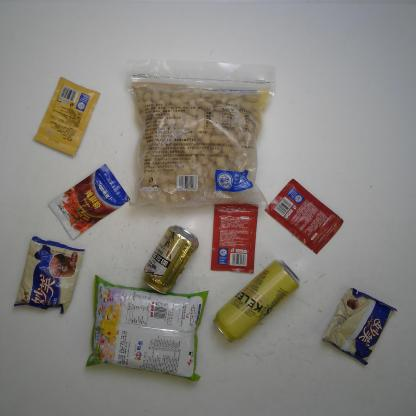Alcohol: (211, 255, 305, 344), (141, 223, 201, 297)
Dessert: (321, 284, 400, 368), (7, 238, 92, 316)
Dried Food: (122, 61, 282, 214)
Puffed Food: (81, 274, 214, 384)
Seasoner: (262, 178, 346, 256), (46, 165, 132, 241), (32, 77, 102, 158), (209, 200, 260, 274)
